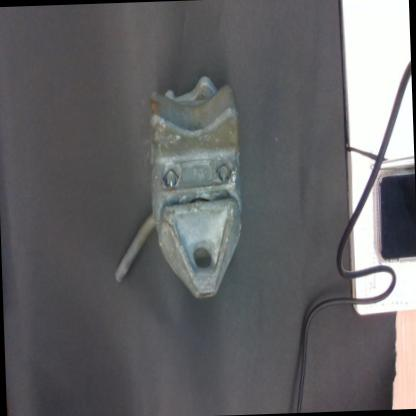Twistlock: (96, 68, 250, 304)
